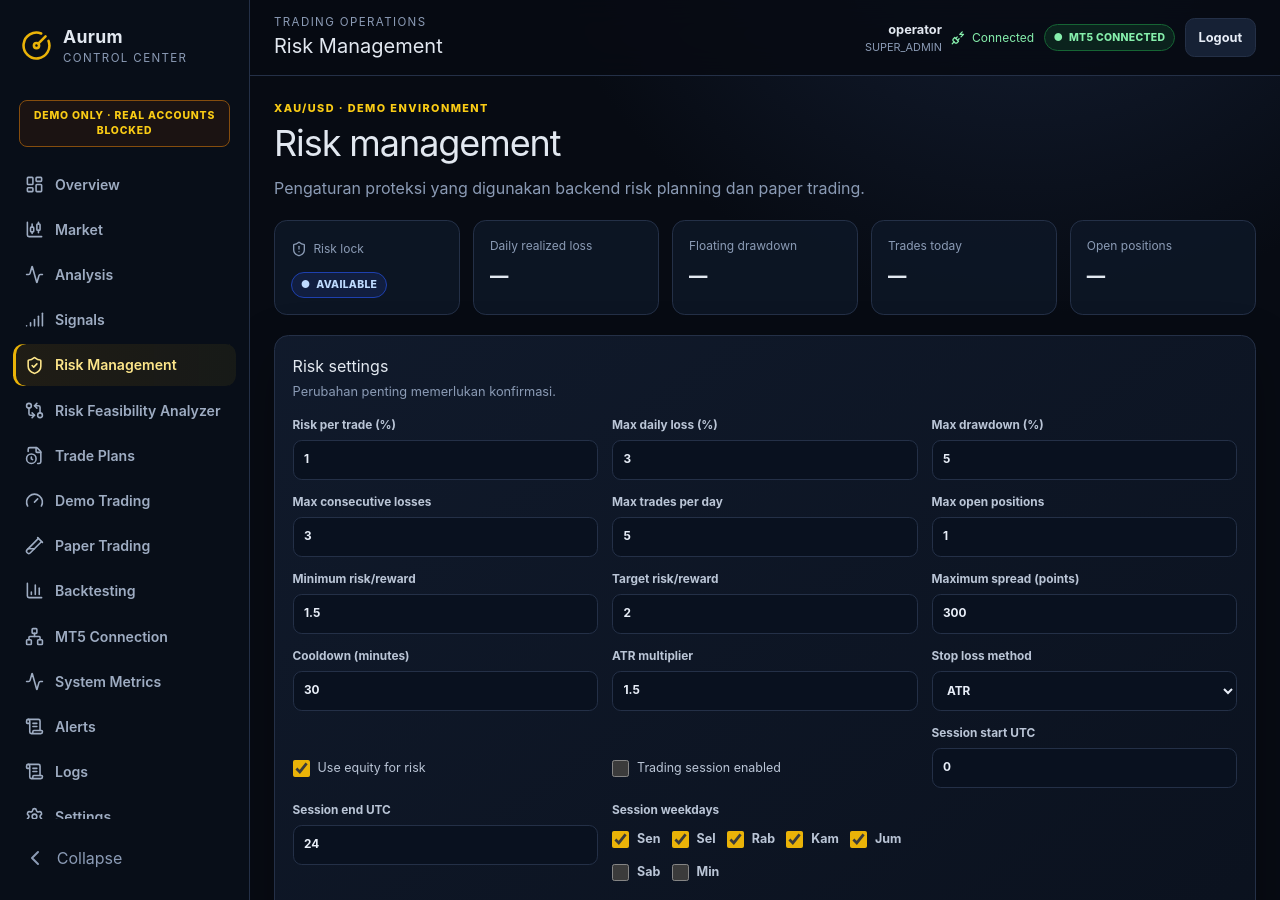
risk and trade plan flows › validates risk settings before saving
Replace the text in the number field labelled "Risk per trade (%)" with "0" at (446, 460), box [293, 440, 598, 480]
(page scrolled)
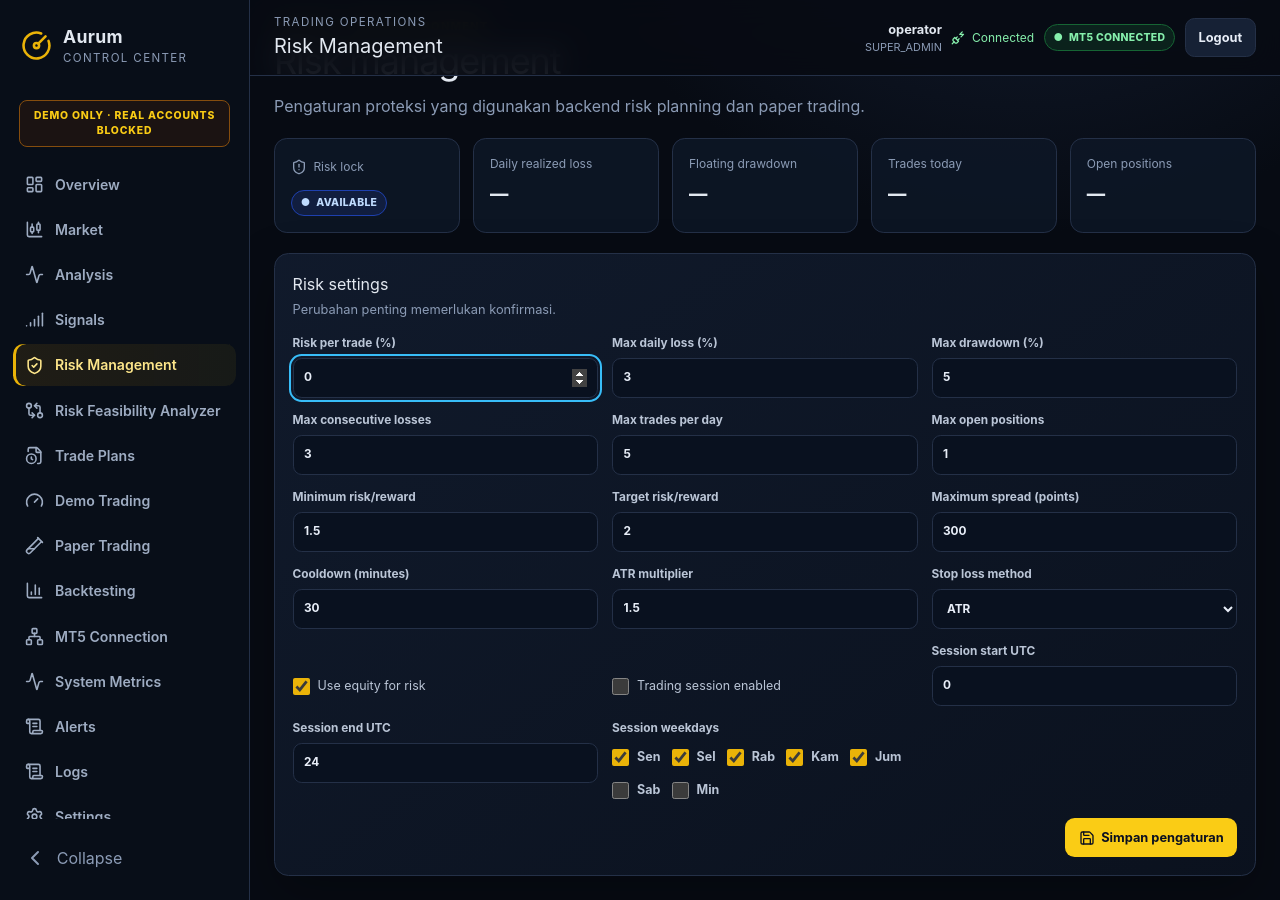
Click the button "Simpan pengaturan" at (1151, 838), box [1065, 818, 1237, 857]
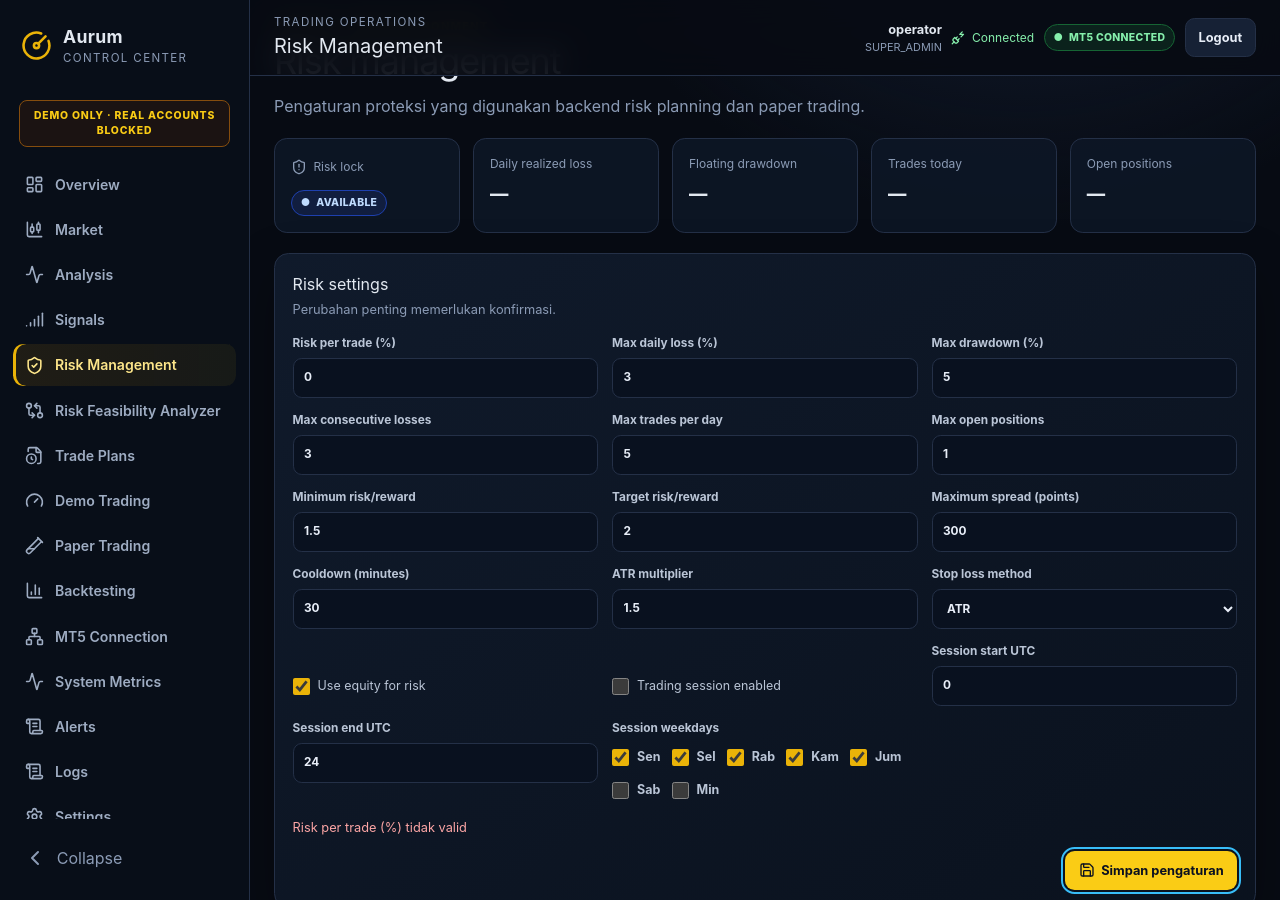
Expected: the message reads "Risk per trade (%) tidak valid", [293, 820, 467, 835]
